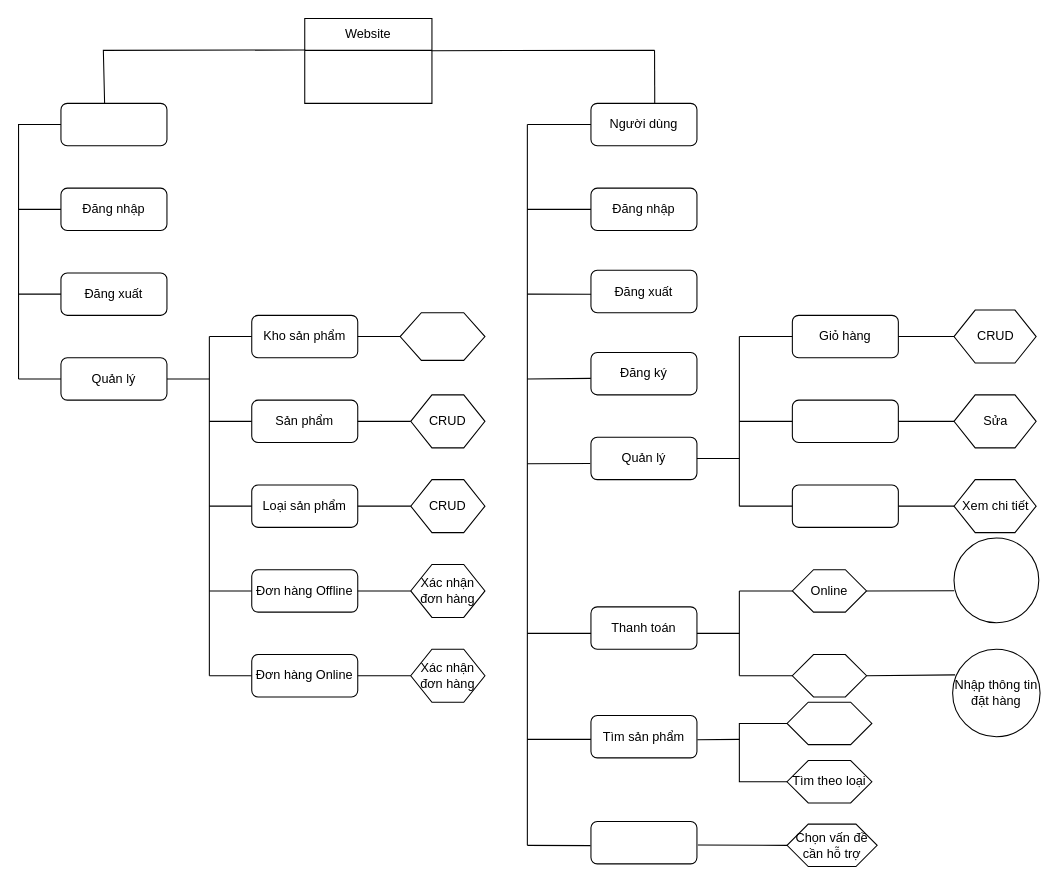
Some shapes in this 1059 by 885 pixel diagram are drawn without their labels. The shapes that lost their labels are listed below. From the top down, each one's centre as x and y in pixels, then its label:
At pixel 113 124: "Người quản lý".
At pixel 442 336: "Nhập/Xuất Kho".
At pixel 844 421: "Thông tin tài khoản".
At pixel 844 505: "Đơn hàng".
At pixel 996 580: "Cổng thanh toán VNPAY/MOMO".
At pixel 829 675: "Offline".
At pixel 829 723: "Tìm theo tên".
At pixel 643 842: "Chatbot".
